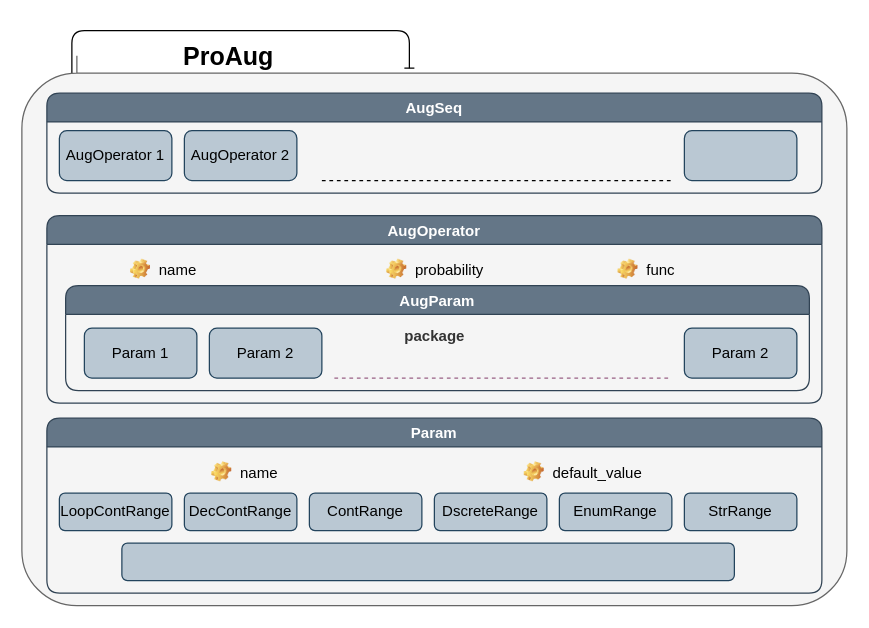
Some shapes in this 869 by 628 pixel diagram are drawn without their labels. The centre of each missing label's shape, as x and y in pixels:
AbstractRange: (427,561)
AugOperator m: (740,155)
